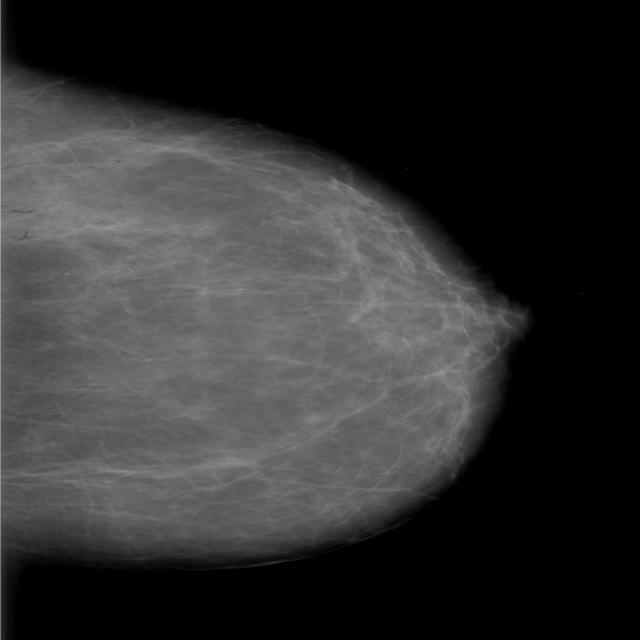normal: (0, 52, 524, 572)
